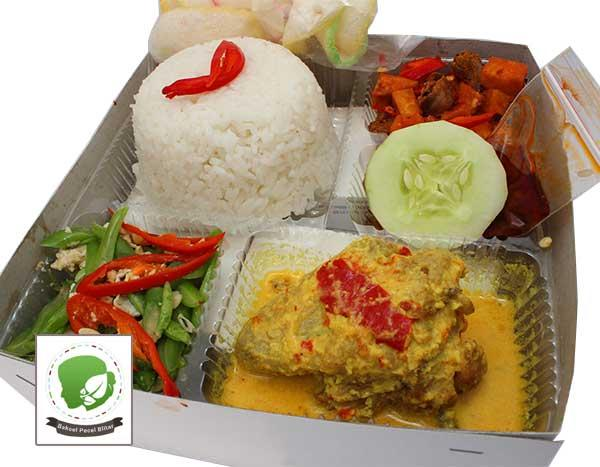buah_sayur_lainnya: (391, 138, 489, 222)
buah_sayur_vitA: (51, 236, 190, 333)
daging: (277, 281, 461, 381)
makanan_berpati: (166, 106, 309, 182), (403, 66, 498, 110)
